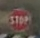stop: (6, 5, 32, 34)
